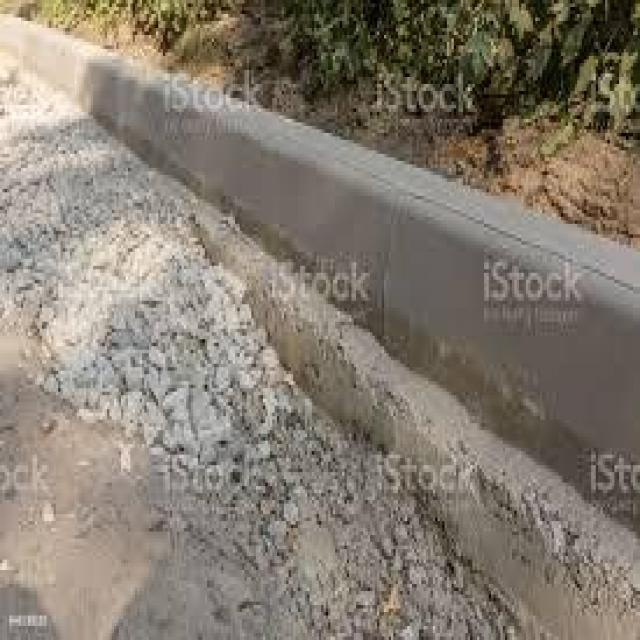curb: (381, 160, 640, 631), (147, 56, 386, 421), (10, 8, 143, 182)
